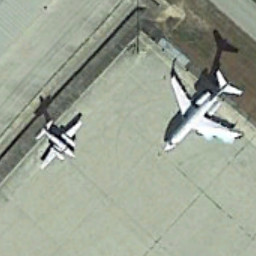Airplane: (148, 50, 253, 168), (23, 104, 97, 175)
